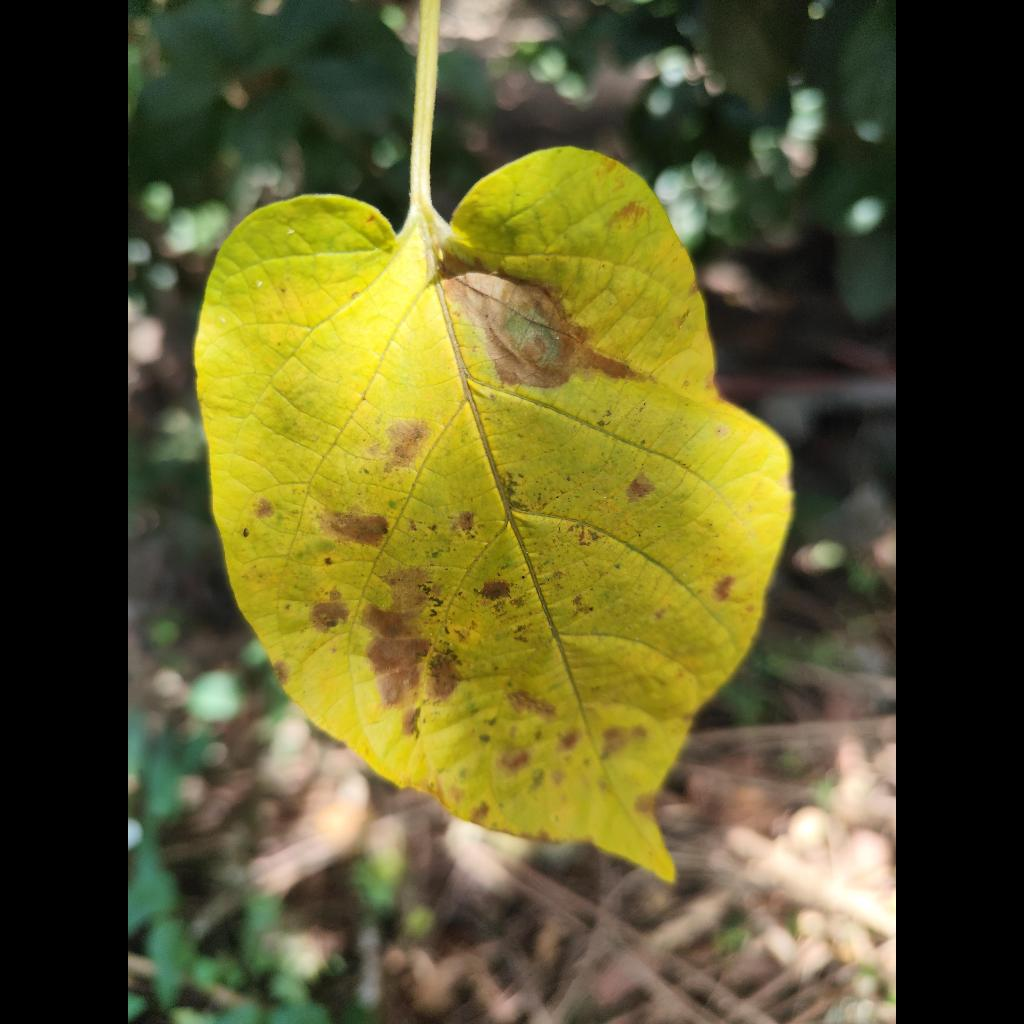nutrient_deficiency: (197, 0, 791, 879)
